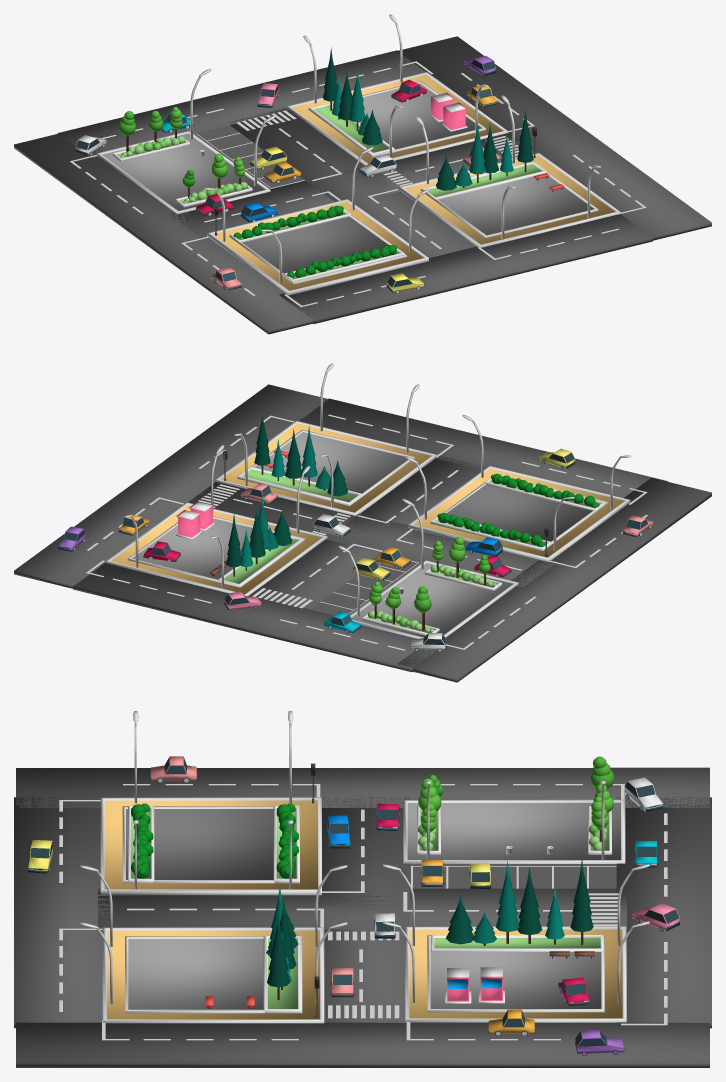
Rendered from city map2.fbx.
3 views of the same model, one above another, from view 1: azimuth 30°, elevation 25°; view 2: azimuth 150°, elevation 25°; view 3: azimuth 270°, elevation 25° (orthographic). The views are drawn at different scales.
Visible parts, largest first — view 1: ROAD, Floor_4_2, Floor_4_4, Floor_4, Floor, Floor_4_3, Floor_2, Floor_3, Floor_4_5, Cube_7, Cube_7_2, Bushes (+12 smaller); view 2: ROAD, Floor_4_4, Floor_4, Floor, Floor_4_2, Floor_2, Floor_3, Floor_4_3, Floor_4_5, Cube_7, Cube_7_2, Bushes_3_2 (+15 smaller); view 3: ROAD, Floor_4_4, Floor_4_2, Floor_4, Floor_4_3, Floor, Floor_2, Floor_3, Floor_4_5, Cube_7_2, Cube_7, Bushes (+23 smaller).
Part boxes in pixels (x1,y1,x2,y2): ROAD: (14,36,711,334); Floor_4_2: (420,163,598,237); Floor_4_4: (96,130,270,214); Floor_4: (229,211,406,284); Floor: (207,199,428,295); Floor_4_3: (308,81,485,157); Floor_2: (398,152,620,247); Floor_3: (286,72,508,165); Floor_4_5: (194,125,304,189); Cube_7: (421,161,546,199); Cube_7_2: (308,103,394,155); Bushes: (287,245,397,277); ROAD: (14,384,711,682); Floor_4_4: (350,560,518,638); Floor_4: (430,476,607,550); Floor: (408,465,630,562); Floor_4_2: (237,429,414,505); Floor_2: (215,420,436,515); Floor_3: (105,502,327,596); Floor_4_3: (127,516,305,587); Floor_4_5: (310,560,420,615); Cube_7: (237,466,362,505); Cube_7_2: (218,536,303,586); Bushes_3_2: (437,513,545,547); ROAD: (14,767,711,1067); Floor_4_4: (403,799,625,863); Floor_4_2: (125,936,301,1013); Floor_4: (122,806,299,883); Floor_4_3: (427,935,604,1012); Floor: (100,797,321,895); Floor_2: (102,927,324,1023); Floor_3: (405,926,626,1022); Floor_4_5: (410,864,616,888); Cube_7_2: (431,935,603,951); Cube_7: (263,936,302,1013); Bushes: (131,803,153,878).
Size of the model in its own units: 2192 by 333 by 2192.
1 material, 1 textured.
